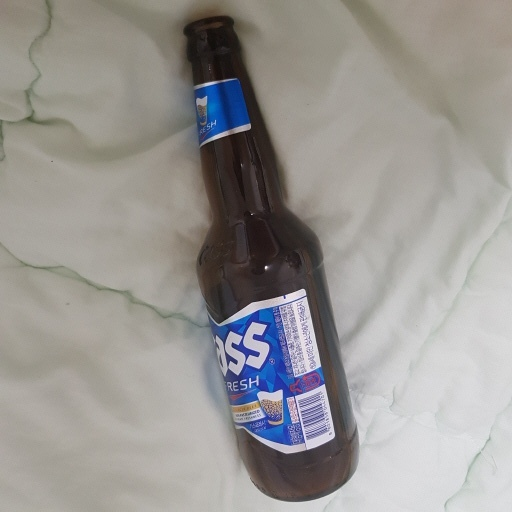Glass_1: (184, 16, 367, 504)
